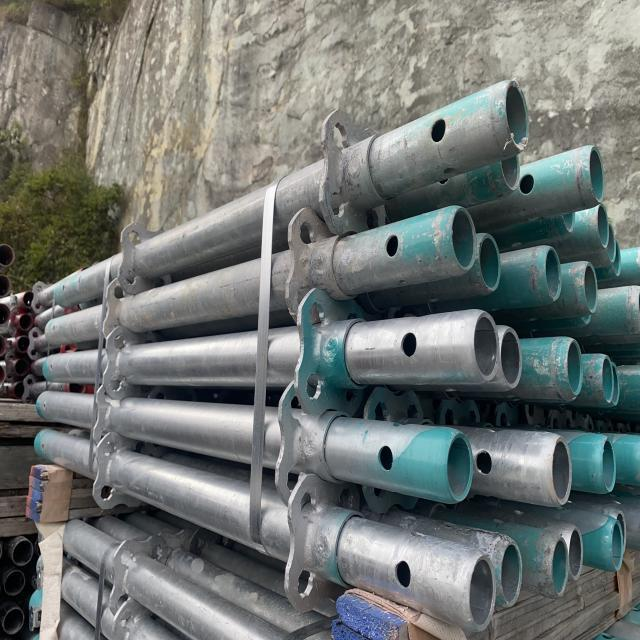pipe: (466, 551, 496, 634), (444, 429, 474, 504), (448, 204, 478, 274), (472, 310, 501, 382), (503, 78, 530, 154), (498, 537, 524, 609), (550, 434, 573, 506), (476, 232, 502, 292), (500, 324, 523, 390), (548, 534, 570, 599), (543, 244, 563, 302), (588, 143, 606, 204), (566, 338, 584, 399), (600, 436, 618, 494), (568, 524, 585, 584), (498, 151, 522, 192), (582, 260, 600, 314), (608, 517, 624, 573), (600, 353, 616, 406), (614, 508, 628, 560), (595, 202, 610, 250), (608, 359, 622, 409), (604, 222, 618, 264), (559, 206, 577, 234), (609, 239, 622, 277), (578, 307, 594, 325)
